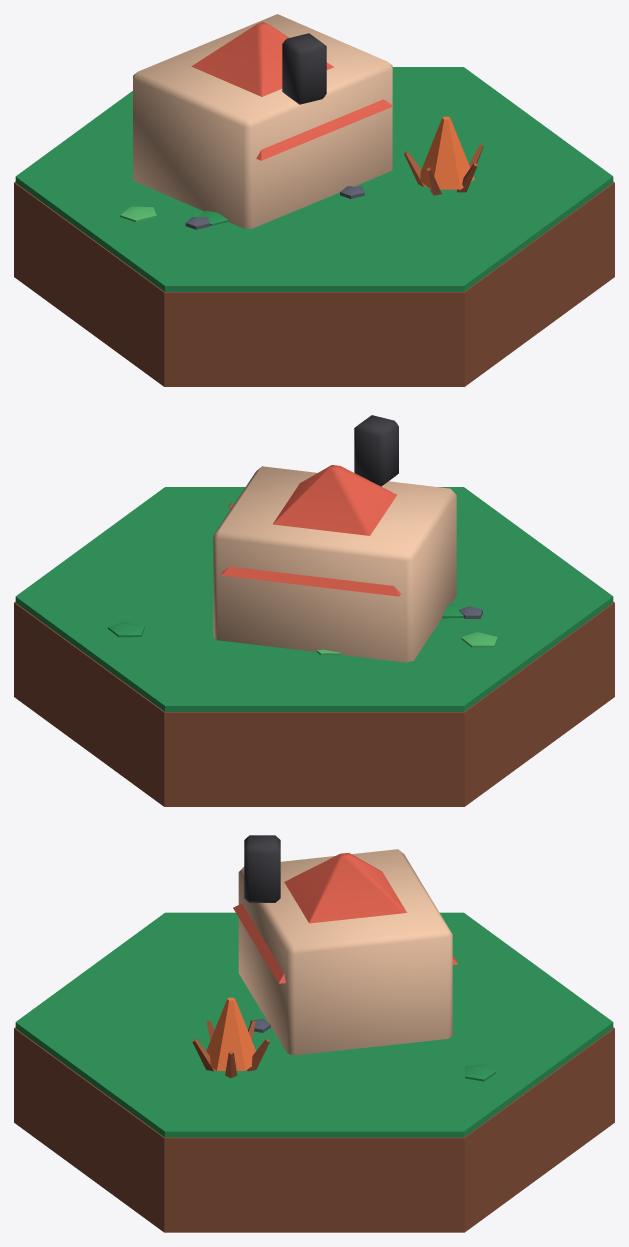
File: building-cabin.glb
3 views of the same model, one above another, from view 1: azimuth 30°, elevation 25°; view 2: azimuth 150°, elevation 25°; view 3: azimuth 270°, elevation 25° (orthographic).
Parts seen in each view (by area): view 1: building_cabin; view 2: building_cabin; view 3: building_cabin.
Part boxes in pixels (x1=…): building_cabin: x1=14, y1=14, x2=614, y2=386; building_cabin: x1=14, y1=415, x2=614, y2=806; building_cabin: x1=14, y1=835, x2=614, y2=1232.
Bounding box in the file's own units: 1 × 0.56 × 1.15.
Materials: 1 (1 with a texture image).
